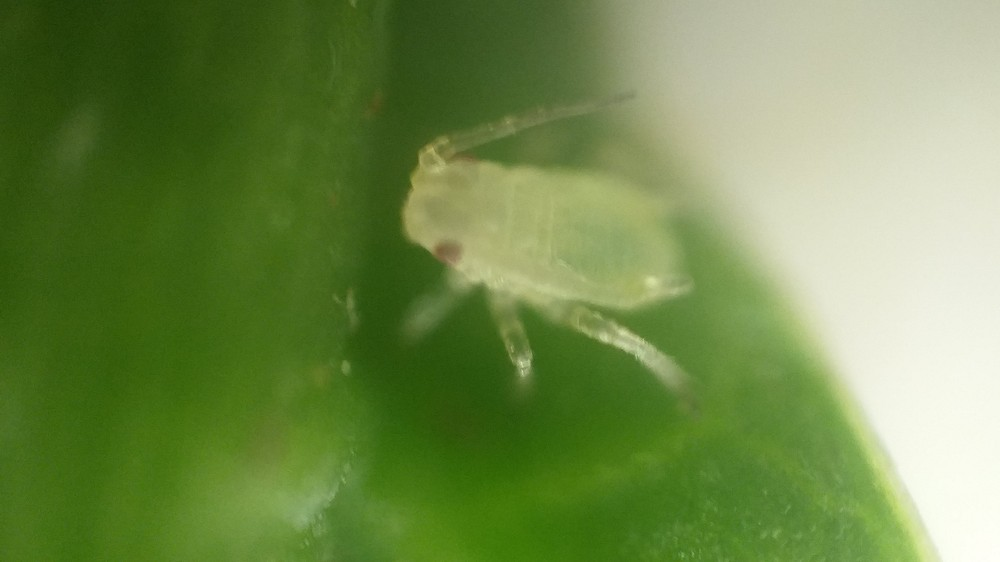Pulgon: (370, 68, 752, 425)
